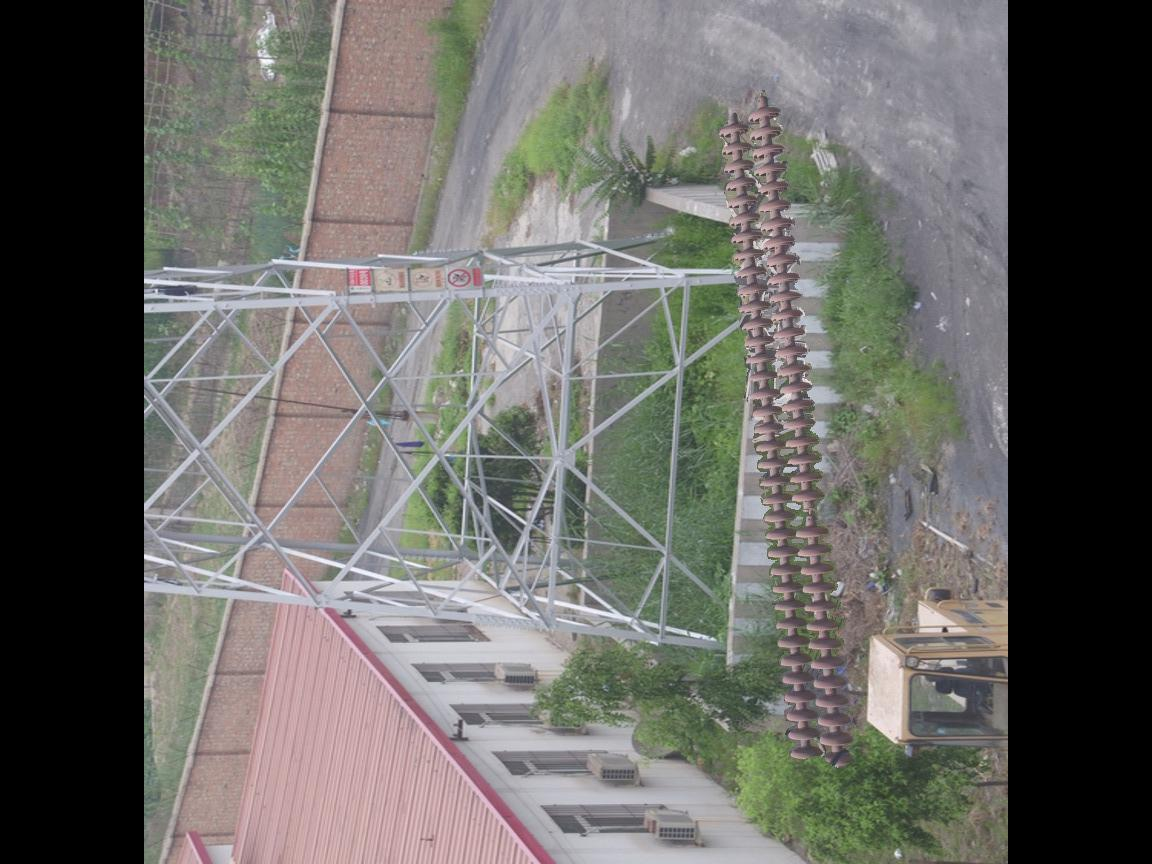insulator: (715, 101, 856, 779)
insulator_stringdrop: (786, 489, 830, 542)
